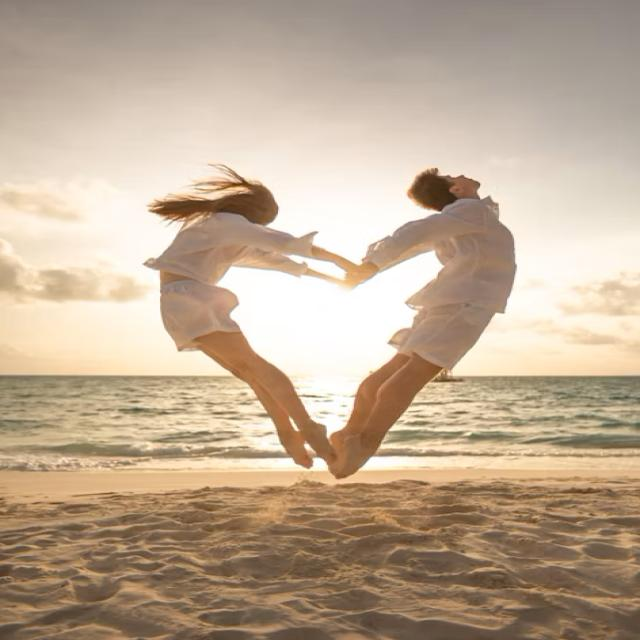Edited images: (129, 152, 539, 490)
